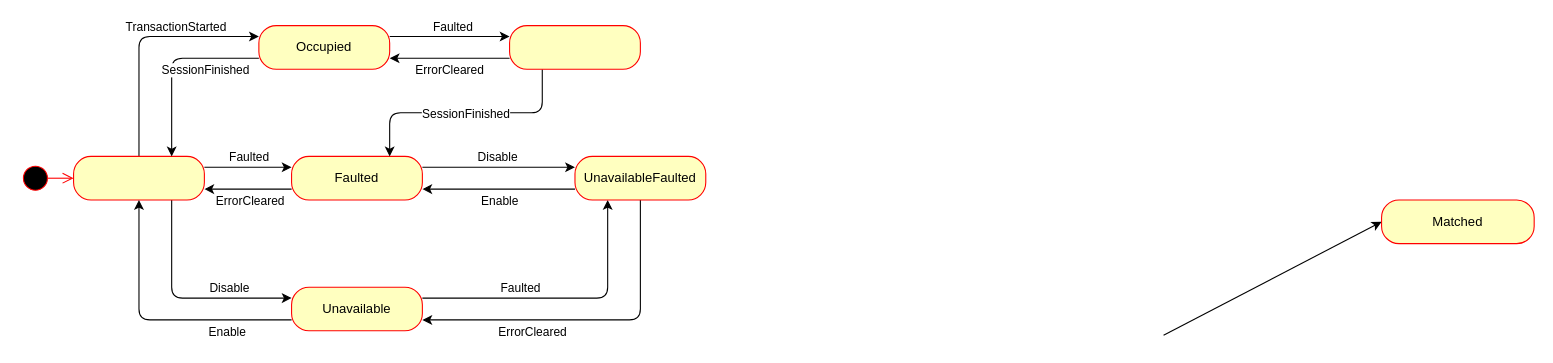
Image size: 1553x363. Some labels were removed from this diagram. Here are the shapes that lost their labels. From the top down, the box of each, then its label:
(508, 25, 640, 69): FaultedOccupied
(72, 155, 204, 200): Available
